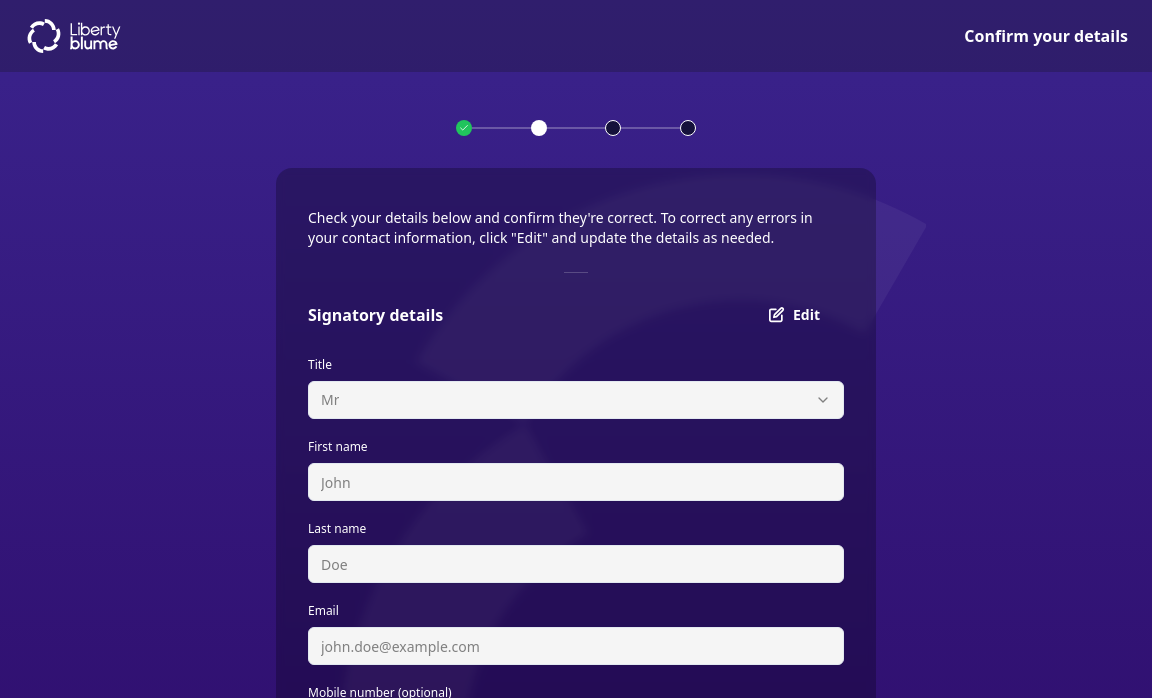
Test case: ConfirmDetails › confirm email field visibility › renders Confirm email field in edit mode
The image size is (1152, 698).
Click the button "Edit". click: click(794, 315)
box: [745,297,844,333]
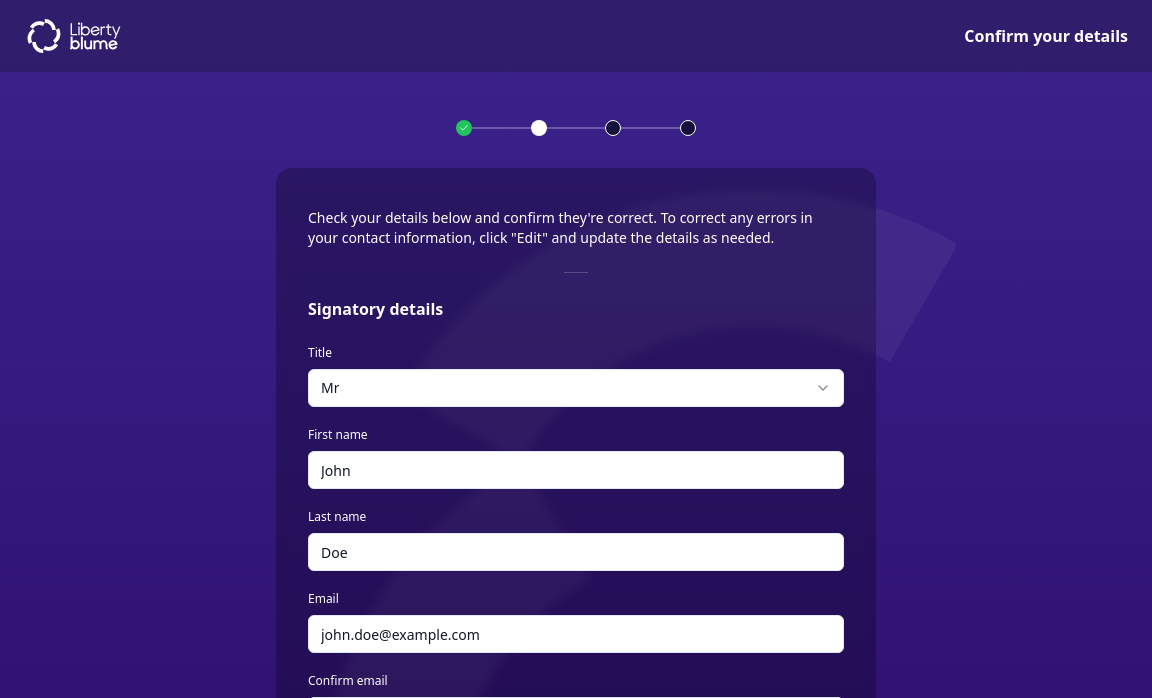
Result: the text "Confirm email" is shown at [308,672,388,689]
